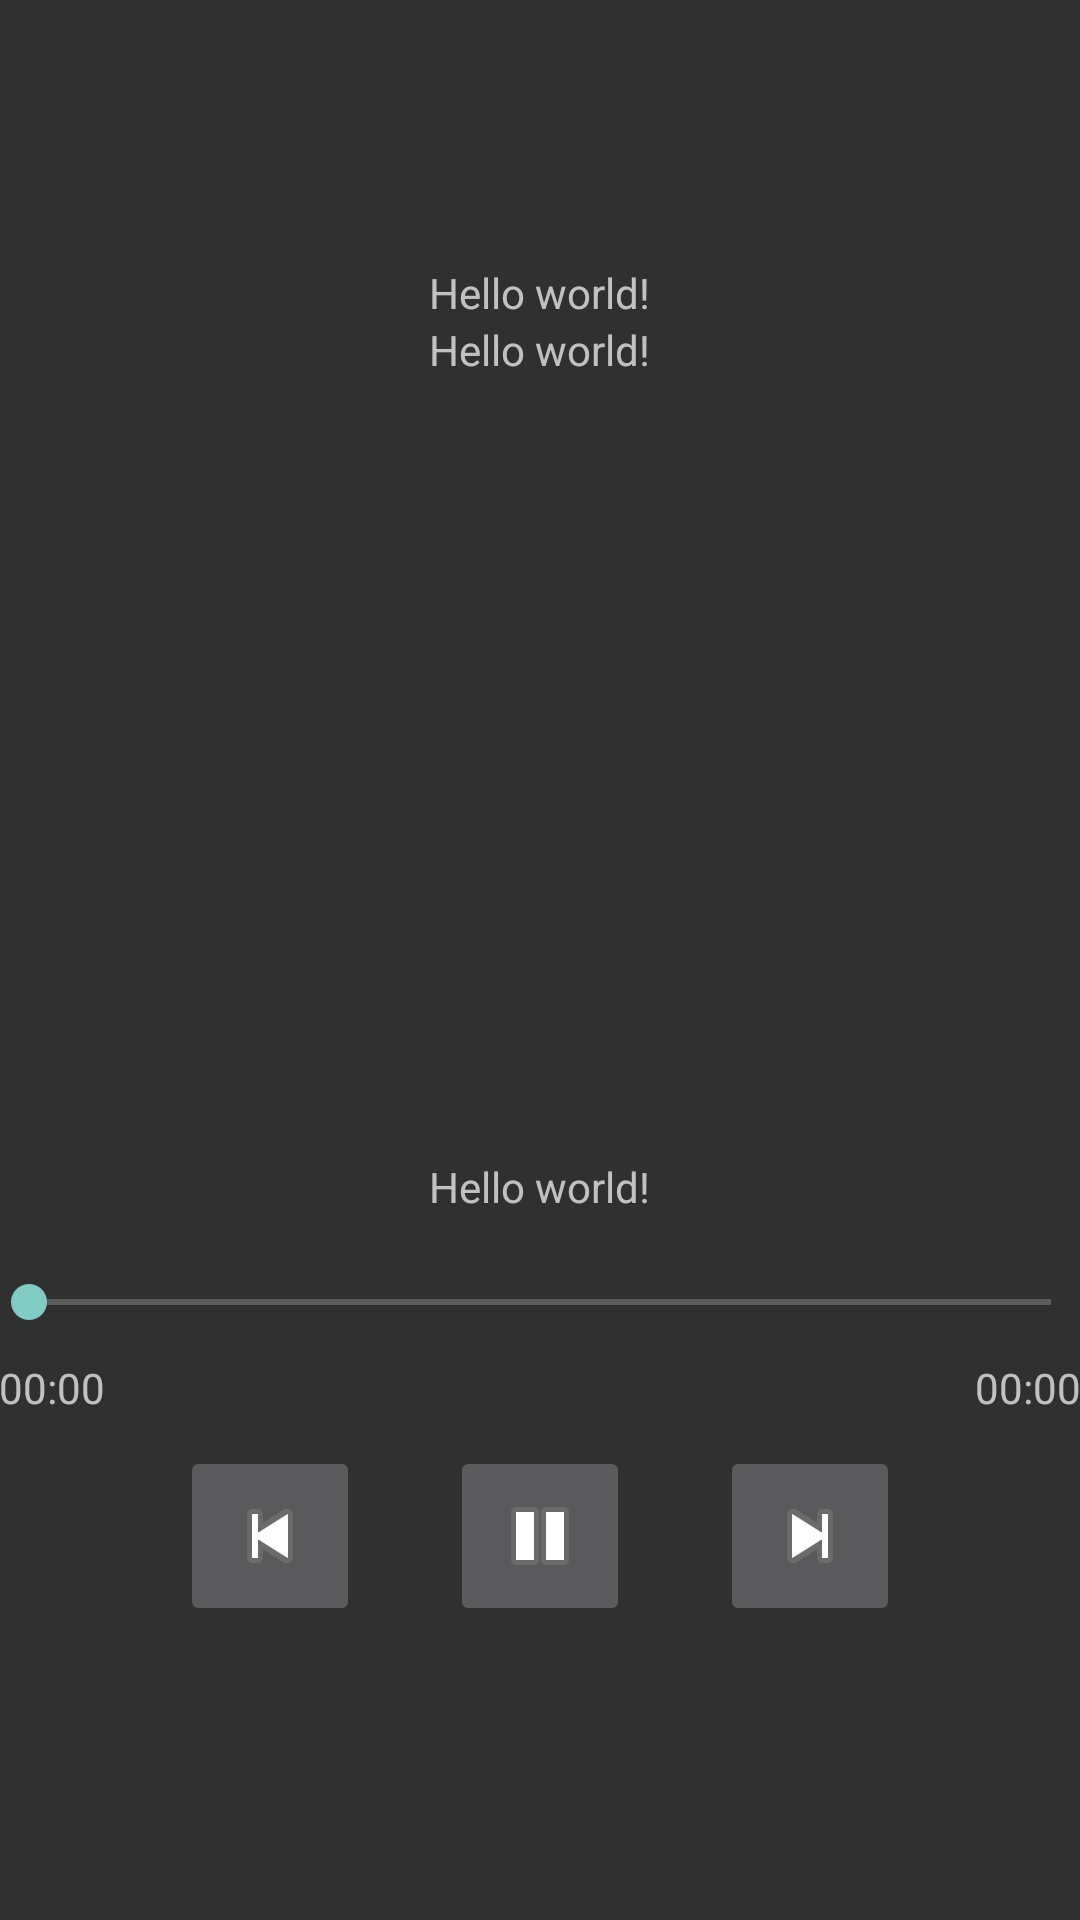

Locate icon controls on the screen. Image size 1080 x 1920, boxes as (x1, y1, x2, y2).
next: (732, 1464, 888, 1608)
pause: (462, 1464, 618, 1608)
previous: (192, 1464, 348, 1608)
